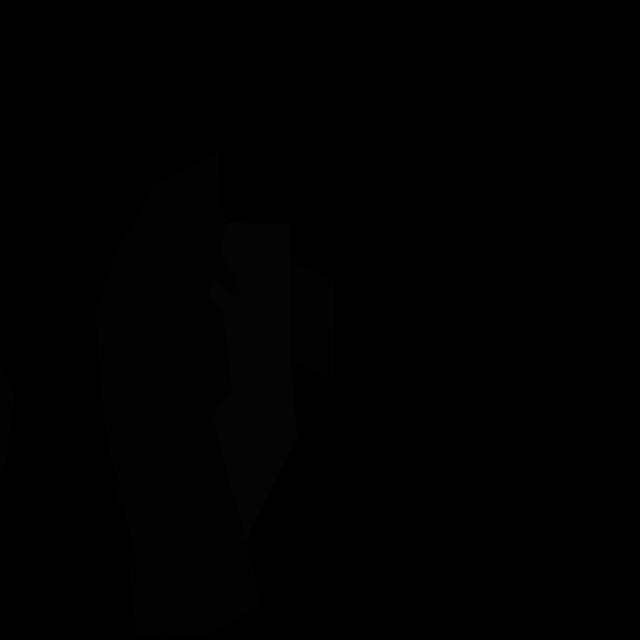cardboard: (96, 151, 262, 638), (291, 262, 335, 383), (0, 367, 15, 473)
soft_plastic: (208, 222, 298, 541)
